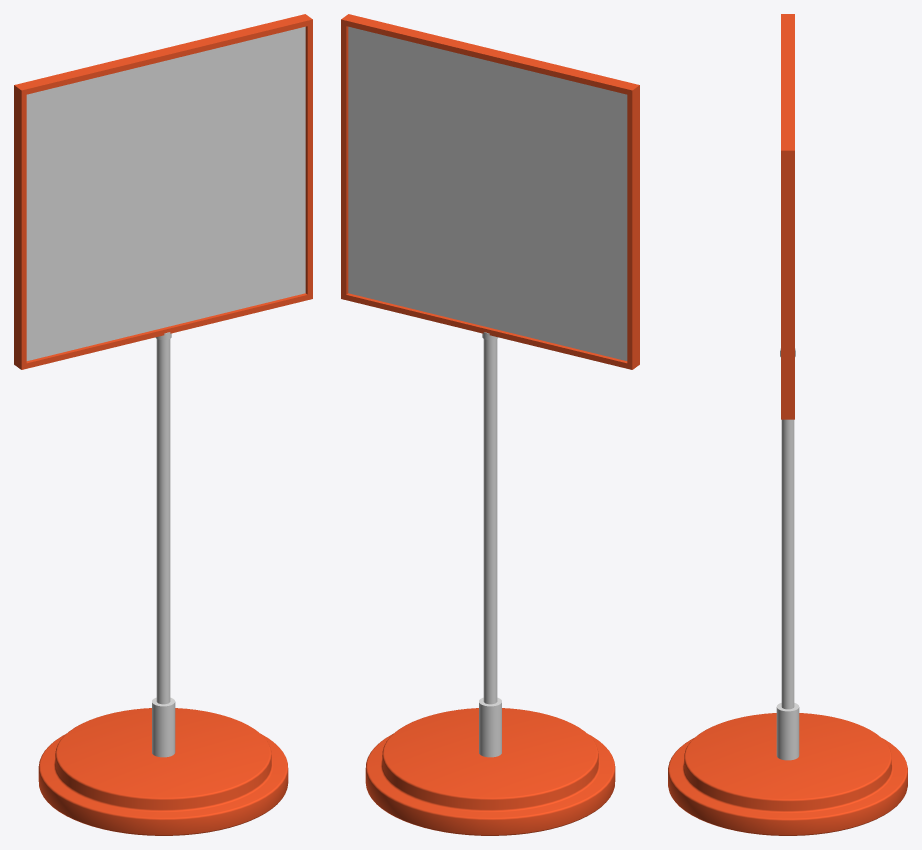
Rendered from advertisingstand.glb.
3 views of the same model, side by side, from view 1: azimuth 30°, elevation 25°; view 2: azimuth 150°, elevation 25°; view 3: azimuth 270°, elevation 25° (orthographic). The views are drawn at different scales.
Parts seen in each view (by area): view 1: Billboard_4, Stand_5, Pole_8, Stripes_7; view 2: Billboard_4, Stand_5, Pole_8, Stripes_7; view 3: Stand_5, Billboard_4, Pole_8, Stripes_7.
Part boxes in pixels (x1,y1,x2,y2): Billboard_4: (14, 14, 312, 369); Stand_5: (38, 708, 288, 835); Pole_8: (156, 339, 170, 704); Stripes_7: (152, 332, 175, 757); Billboard_4: (341, 14, 639, 369); Stand_5: (365, 708, 615, 835); Pole_8: (483, 339, 497, 704); Stripes_7: (479, 332, 501, 757); Stand_5: (668, 713, 907, 835); Billboard_4: (781, 14, 794, 419); Pole_8: (781, 419, 794, 709); Stripes_7: (776, 348, 799, 760).
Bounding box in the file's own units: 1.1 × 2.65 × 0.8187.
